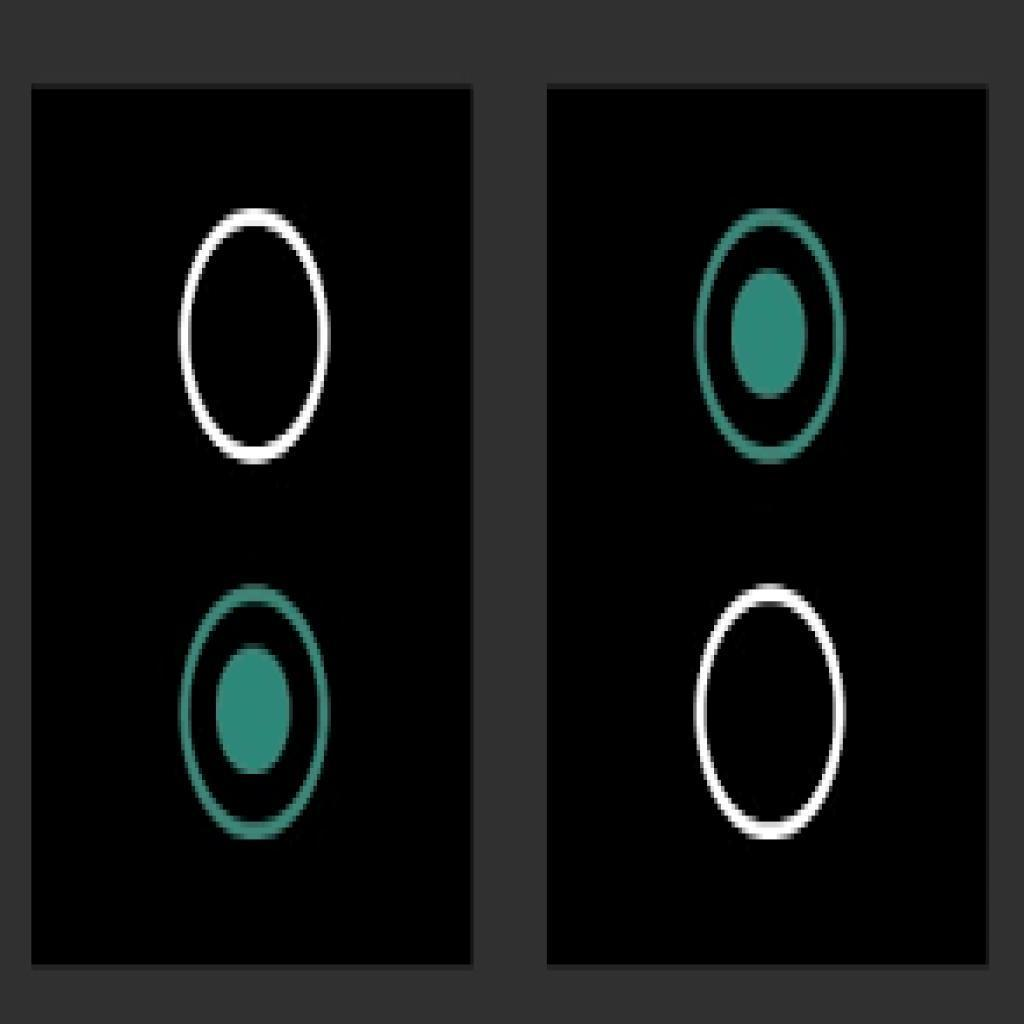radio: (170, 577, 349, 858), (689, 205, 855, 491), (174, 205, 347, 476), (689, 585, 862, 839)
